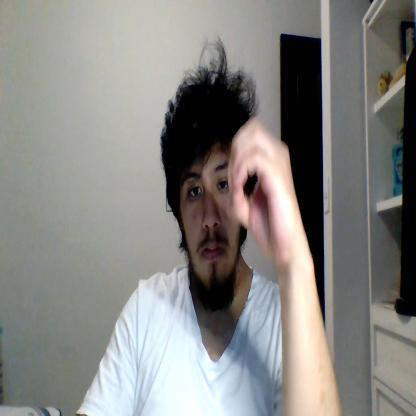O: (227, 117, 300, 258)
